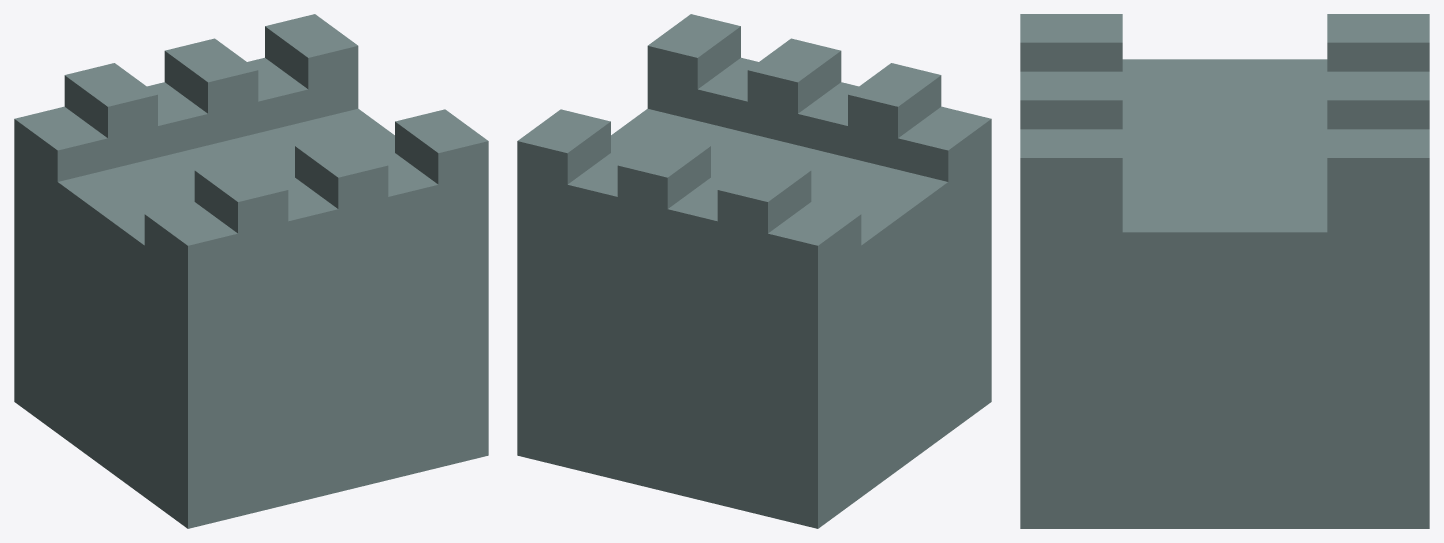
The model's file is stone castle top straight.glb.
3 views of the same model, side by side, from view 1: azimuth 30°, elevation 25°; view 2: azimuth 150°, elevation 25°; view 3: azimuth 270°, elevation 25° (orthographic). The views are drawn at different scales.
Visible parts, largest first — view 1: Cube.005; view 2: Cube.005; view 3: Cube.005.
Boxes of the visible parts, <box> form: Cube.005: <box>14,14,488,528</box>; Cube.005: <box>517,14,991,528</box>; Cube.005: <box>1020,14,1429,528</box>.
Bounding box in the file's own units: 2.5 × 2.5 × 2.5.
